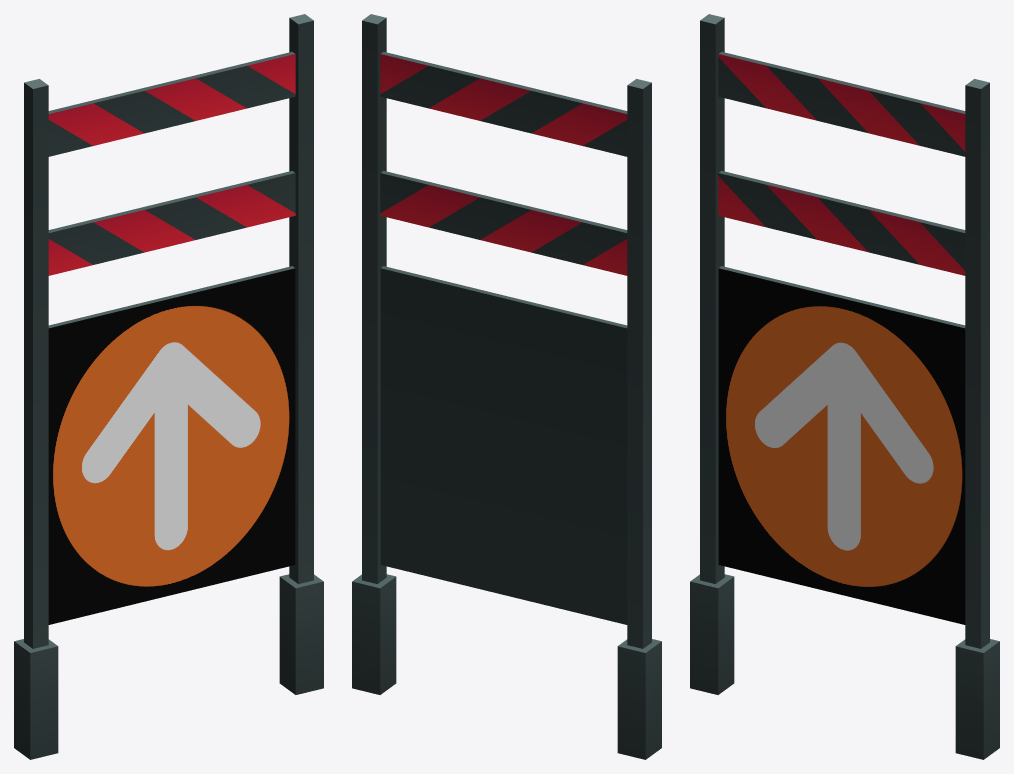
Rendered from Obstacle-Up.fbx.
The picture shows the model from 3 angles, left to right: view 1: azimuth 30°, elevation 25°; view 2: azimuth 150°, elevation 25°; view 3: azimuth 330°, elevation 25°; orthographic projection.
Visible parts, largest first — view 1: Industrial_Fence_1B; view 2: Industrial_Fence_1B; view 3: Industrial_Fence_1B.
Part boxes in pixels (x1,y1,x2,y2): Industrial_Fence_1B: (14,14,323,759); Industrial_Fence_1B: (352,14,661,759); Industrial_Fence_1B: (690,14,999,759).
Size of the model in its own units: 193 by 420 by 18.49.
